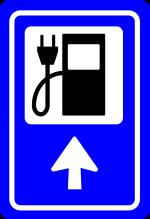Petrol Pump- Gas Station: (6, 9, 145, 210)
